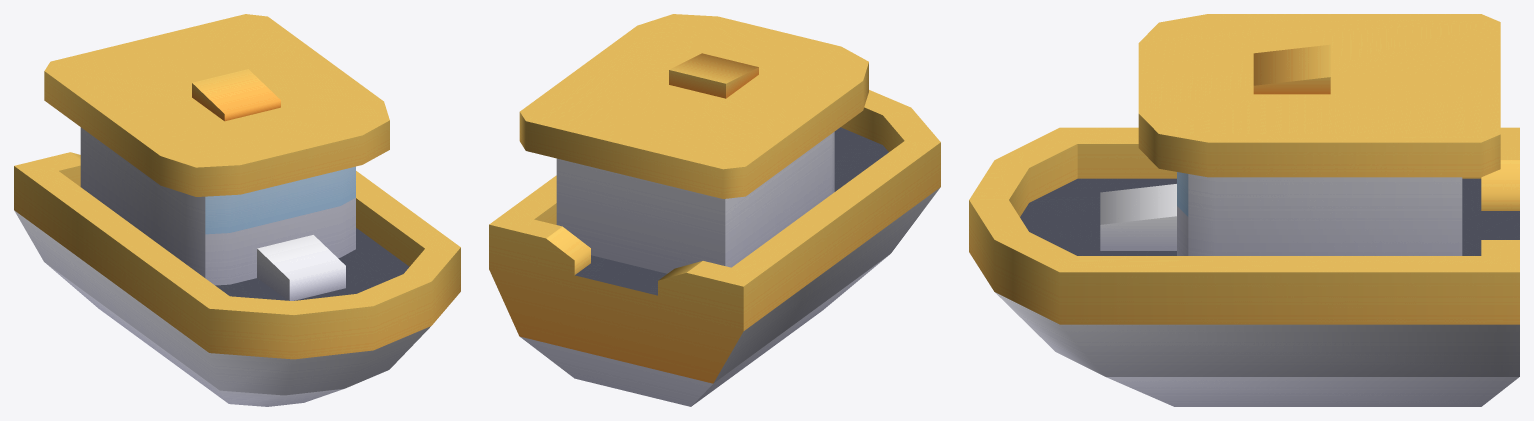
File: boat-tug-c.glb
The picture shows the model from 3 angles, left to right: view 1: azimuth 30°, elevation 25°; view 2: azimuth 150°, elevation 25°; view 3: azimuth 270°, elevation 25°; orthographic projection. The views are drawn at different scales.
Visible parts, largest first — view 1: boat-tug-c; view 2: boat-tug-c; view 3: boat-tug-c.
Boxes of the visible parts, bbox=[...] form: boat-tug-c: bbox=[14, 14, 460, 406]; boat-tug-c: bbox=[489, 14, 940, 406]; boat-tug-c: bbox=[969, 14, 1519, 406].
Size of the model in its own units: 6.07 by 6.12 by 9.76.
Materials: 1 (1 with a texture image).
